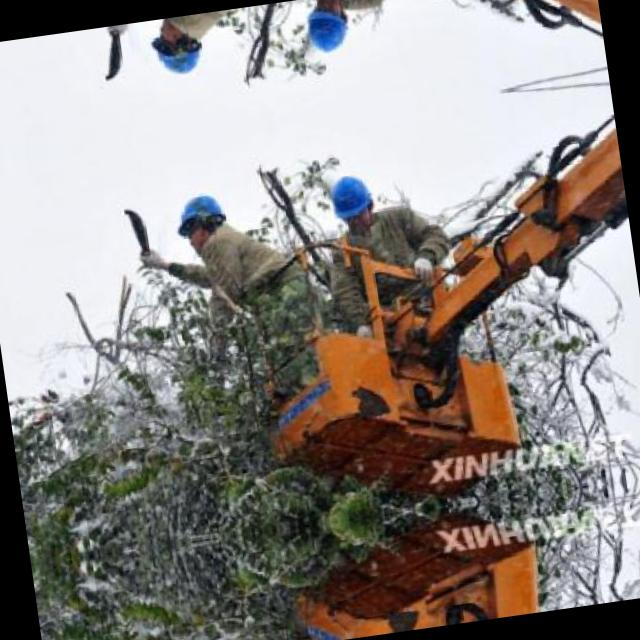helmet: (149, 14, 208, 83), (324, 164, 378, 237), (173, 184, 230, 253), (300, 0, 356, 61)
